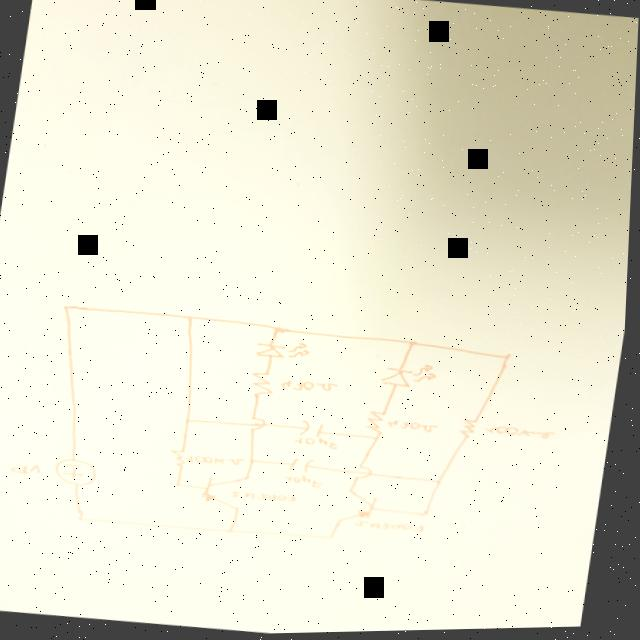capacitor: (299, 420, 330, 442), (290, 456, 320, 476)
crossover: (356, 464, 379, 484), (248, 417, 272, 434)
diode: (382, 361, 443, 393), (255, 338, 316, 365)
junction: (408, 341, 423, 350), (423, 511, 436, 521), (503, 354, 515, 364), (274, 325, 286, 335), (437, 478, 449, 487), (188, 315, 199, 324), (186, 417, 197, 426), (64, 303, 75, 312), (176, 481, 188, 489), (251, 457, 262, 465), (229, 526, 240, 534), (374, 437, 386, 444), (80, 515, 90, 522), (329, 534, 339, 541)
resistor: (250, 371, 282, 400), (367, 411, 392, 438), (461, 419, 486, 443), (170, 447, 193, 471)
source: (57, 457, 103, 488)
text: (357, 517, 432, 536), (230, 488, 305, 507), (487, 425, 560, 444), (281, 379, 342, 398), (188, 453, 250, 470), (389, 419, 444, 437), (294, 436, 344, 454), (286, 474, 328, 491), (13, 461, 46, 476)
transistor: (203, 472, 253, 512), (340, 487, 387, 528)
